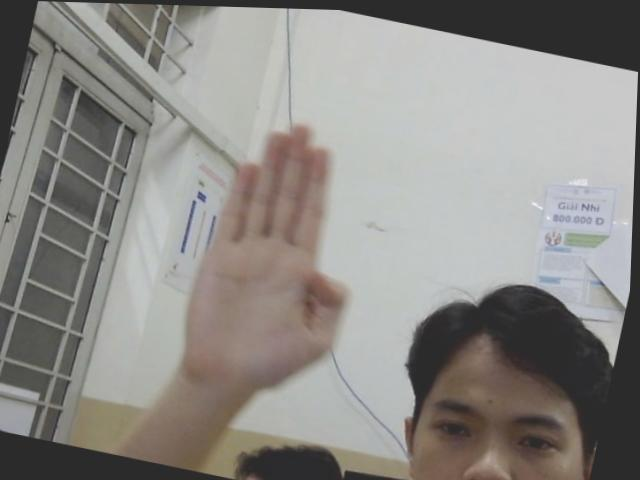B: (165, 107, 384, 406)
